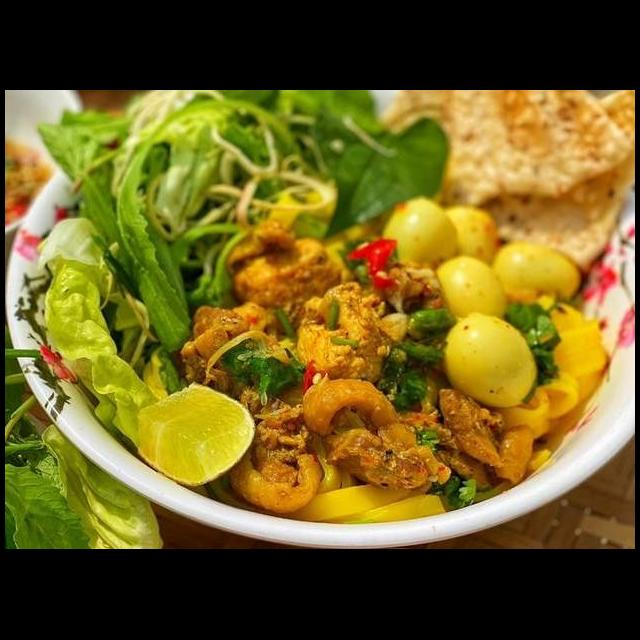banh da: (368, 92, 635, 216), (473, 91, 635, 276)
mi: (289, 432, 450, 532), (490, 370, 581, 470)
thit ga: (177, 296, 329, 516), (297, 370, 459, 498), (404, 386, 537, 490), (287, 277, 395, 393), (227, 214, 346, 316)
trung: (440, 310, 540, 410), (378, 192, 464, 280), (485, 234, 584, 310), (431, 252, 509, 328), (440, 202, 503, 272)
